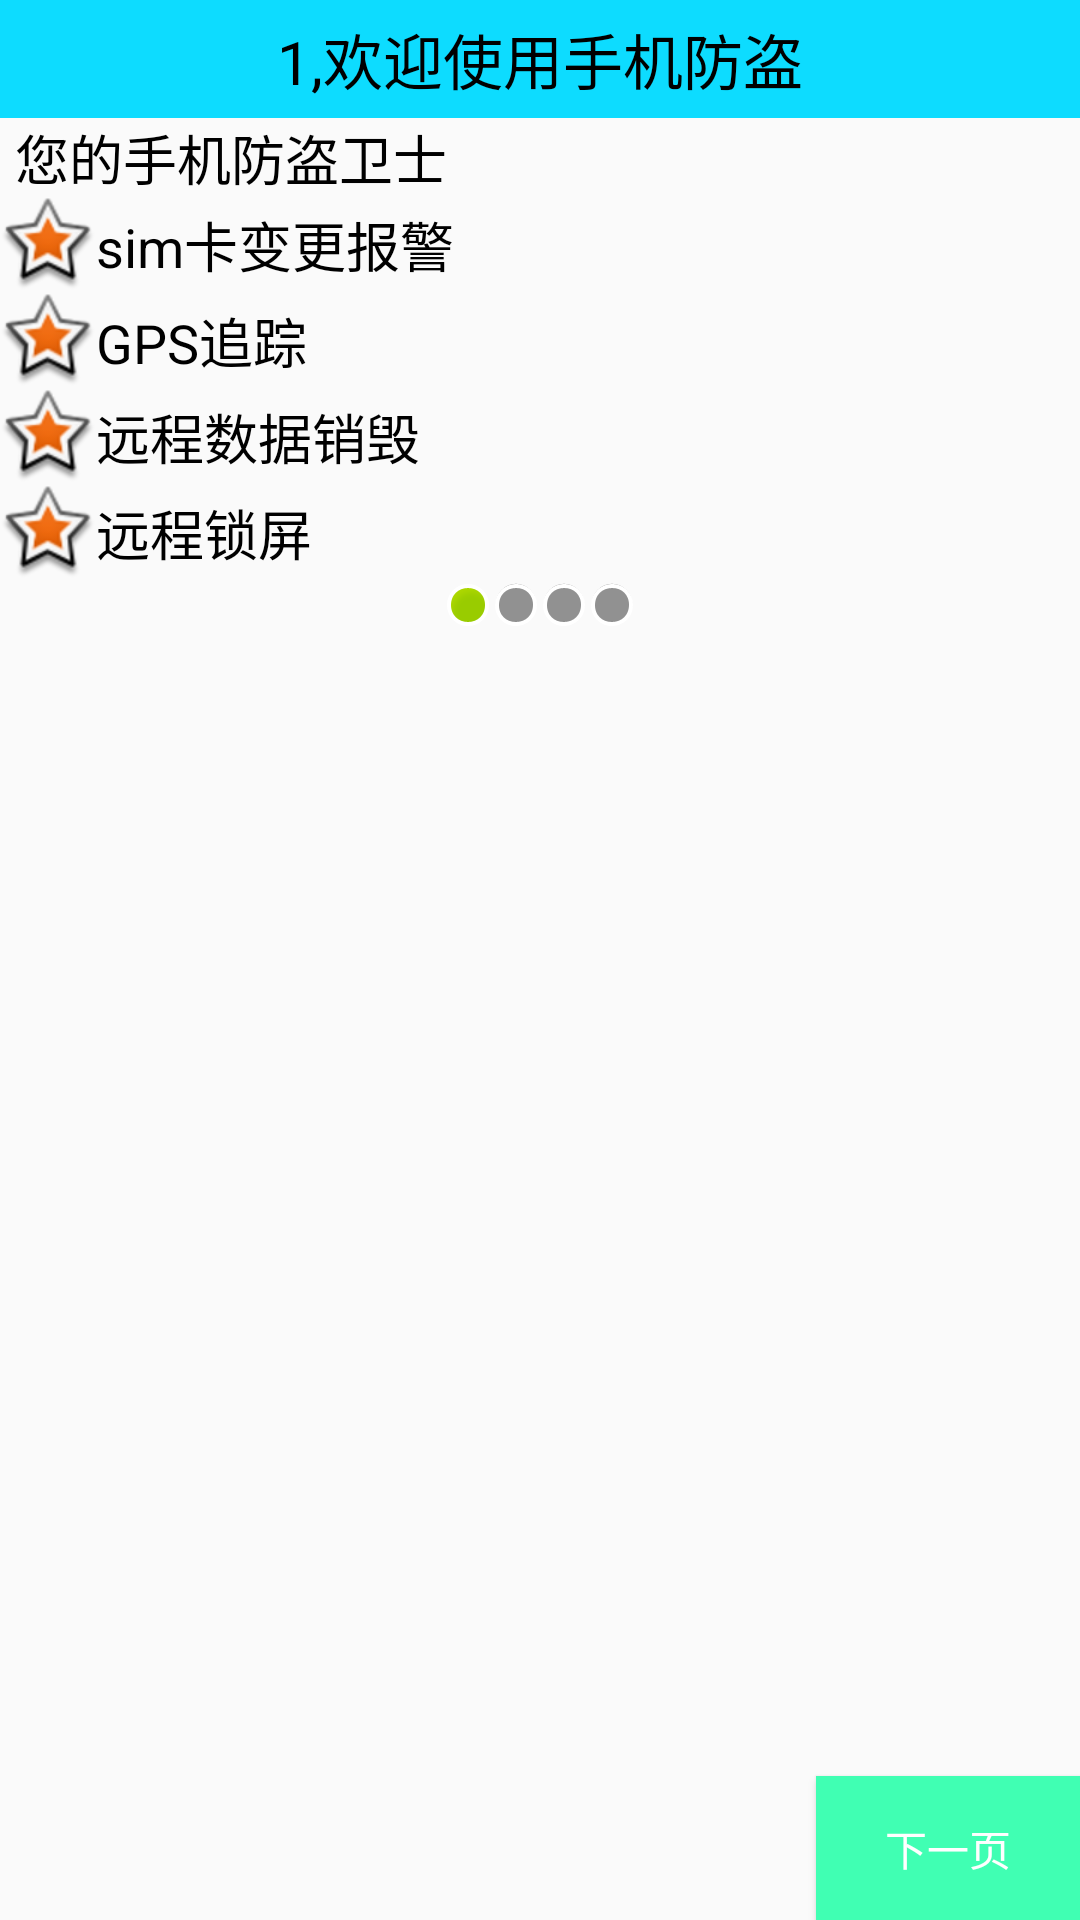

Icons on this 1080w x 1920h Android screen, each with the point to tap as (x=x, y=y):
presence invisible: (x=516, y=603), (x=564, y=603), (x=612, y=603)
presence online: (x=468, y=605)
